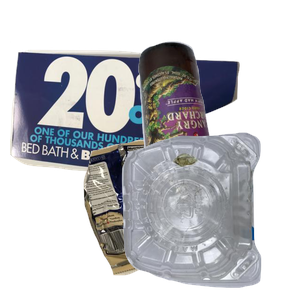glass: (136, 39, 300, 219)
paper: (10, 41, 242, 207)
plastic: (119, 130, 300, 300)
trash: (81, 137, 280, 300)
